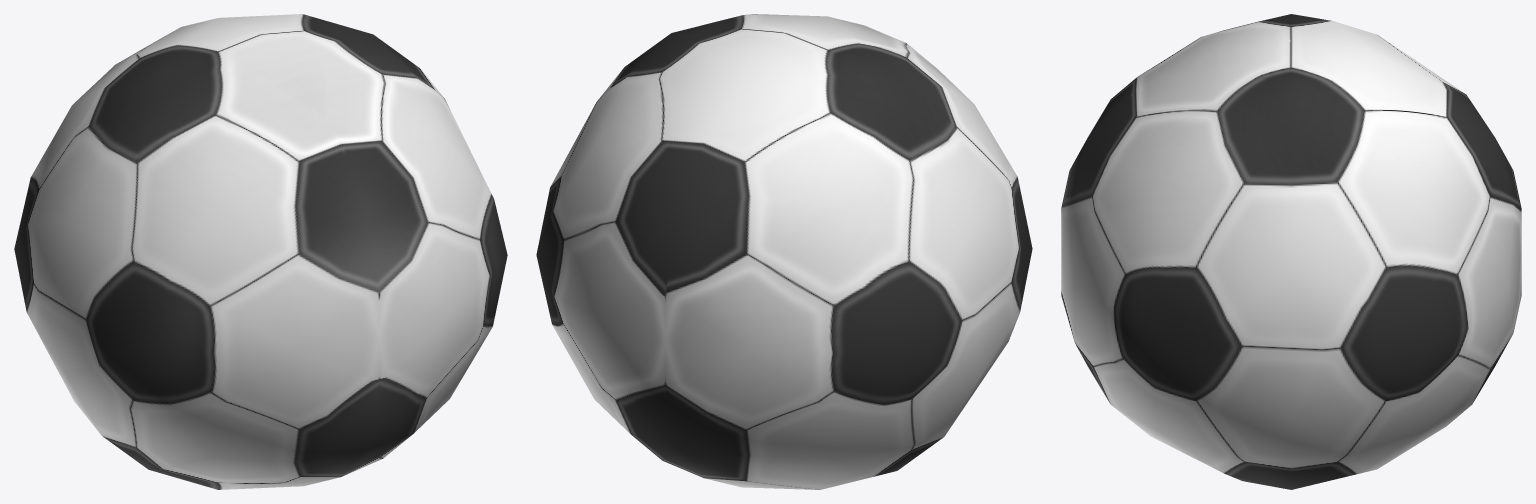
The model's file is TNP0110027.FBX.
3 renders of one model, left to right at view 1: azimuth 30°, elevation 25°; view 2: azimuth 150°, elevation 25°; view 3: azimuth 270°, elevation 25°, orthographic. The views are drawn at different scales.
Visible parts, largest first — view 1: smTNP0110027; view 2: smTNP0110027; view 3: smTNP0110027.
Boxes of the visible parts, x1=… form: smTNP0110027: x1=14, y1=14, x2=507, y2=489; smTNP0110027: x1=536, y1=14, x2=1032, y2=489; smTNP0110027: x1=1061, y1=14, x2=1521, y2=489.
Bounding box in the file's own units: 30.14 × 30.41 × 30.
Materials: 1 (1 with a texture image).
